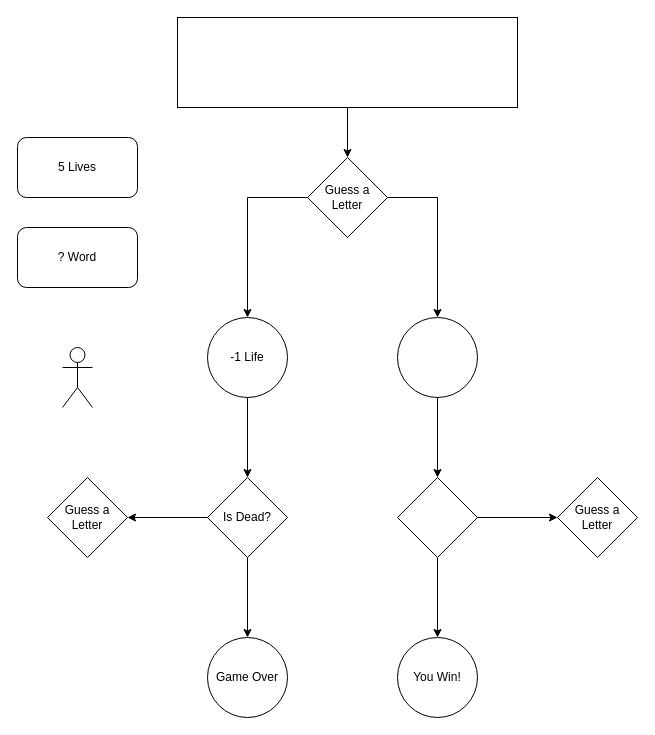
Some shapes in this 655 by 735 pixel diagram are drawn without their labels. The shapes that lost their labels are listed below. From the top down, each one's box as (x1, y1, x2, y2) in pixels, then its label:
(176, 16, 518, 108): Vord Warp - Hangman Game
(62, 346, 92, 408): Actor
(396, 316, 478, 398): +1 Point
(396, 476, 478, 558): Word Complete?
